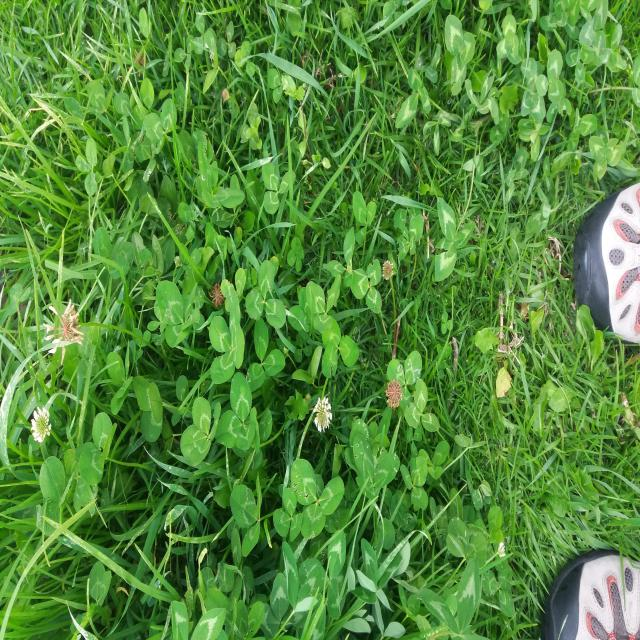Four Leaf Clover: (209, 299, 244, 385), (156, 278, 199, 347), (180, 397, 221, 466)
